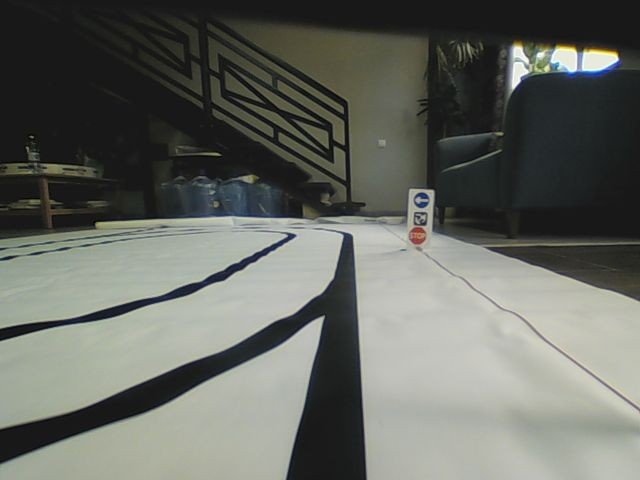Stop: (409, 226, 427, 245)
